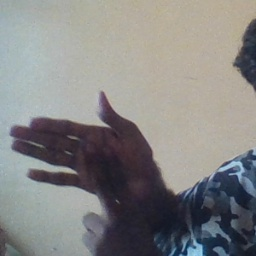N: (10, 81, 163, 231)
